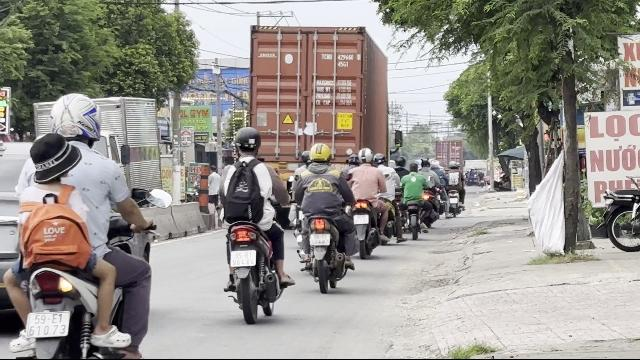helmet: (46, 92, 100, 148), (232, 126, 262, 158), (308, 142, 332, 166), (357, 146, 373, 164)
licenseplate: (27, 311, 69, 337), (230, 250, 256, 266), (310, 234, 330, 244), (354, 214, 368, 223)
motorcyclist: (0, 90, 160, 358), (218, 124, 292, 322), (289, 142, 356, 290), (348, 147, 390, 257)
nohelmet: (26, 133, 82, 185)
